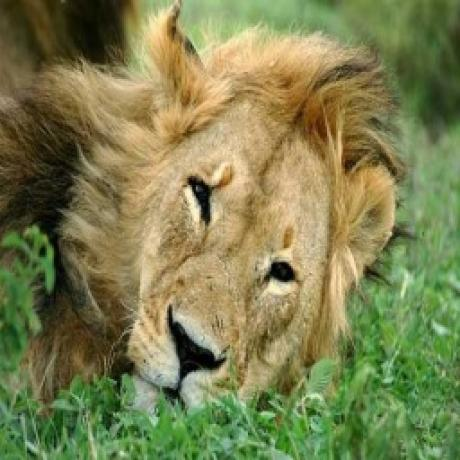Lion: (0, 0, 413, 419)
